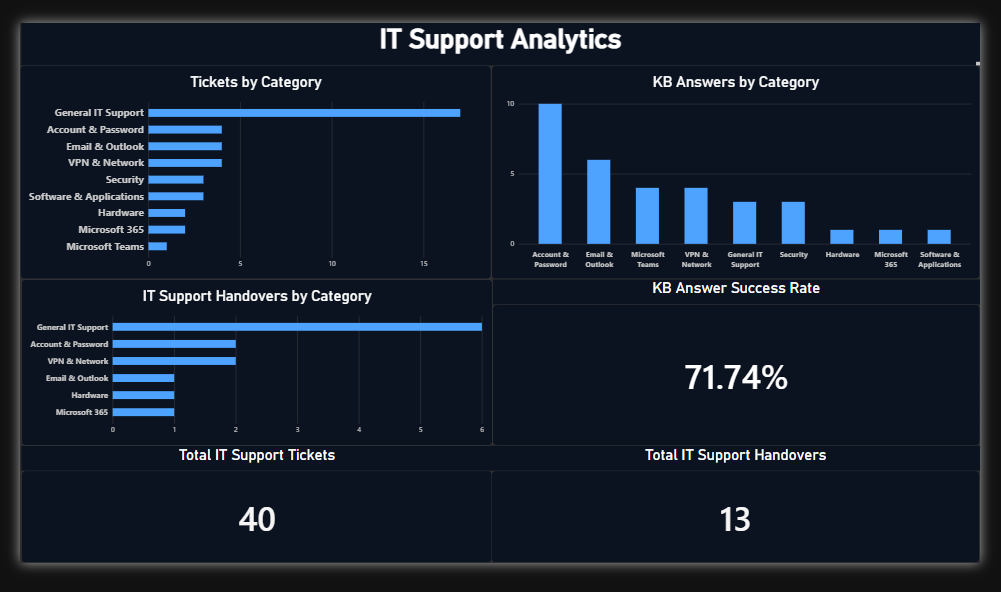

The dashboard page shown, as its layout file describes it:
{"tool":"powerbi","page":{"name":"Page 1","canvas":[1920,1080],"ordinal":0},"visuals":[{"type":"clusteredBarChart","title":"Tickets by Category","fields":{"Category":["cre75_itsupporttickets.Category"],"Y":["CountNonNull(cre75_itsupporttickets.Ticket Number)"]},"box":[0,85,942.5,427.5],"z":0},{"type":"cardVisual","title":"Total IT Support Tickets","fields":{"Data":["CountNonNull(cre75_itsupporttickets.Ticket Number)"]},"box":[2.5,845,942.5,235],"z":1},{"type":"cardVisual","title":"KB Answer Success Rate","fields":{"Data":["cre75_itconversationanalyticses.KB Answer Success Rate"]},"box":[945,512.5,975,332.5],"z":2},{"type":"clusteredBarChart","title":"IT Support Handovers by Category","fields":{"Category":["cre75_itconversationanalyticses.Category Name"],"Y":["CountNonNull(cre75_itconversationanalyticses.cre75_userquestion)"]},"box":[2.5,512.5,942.5,332.5],"z":3},{"type":"cardVisual","title":"Total IT Support Handovers","fields":{"Data":["CountNonNull(cre75_itconversationanalyticses.cre75_handedover)"]},"box":[942.5,840,977.5,240],"z":4},{"type":"clusteredColumnChart","title":"KB Answers by Category","fields":{"Category":["cre75_itconversationanalyticses.Category Name"],"Y":["CountNonNull(cre75_itconversationanalyticses.cre75_userquestion)"]},"box":[942.5,85,977.5,427.5],"z":5},{"type":"textbox","title":"IT Support Analytics","box":[678.3,0,530,85],"z":6}]}

Visuals, with their boxes on the page's 1920x1080 design canvas (x1, y1, x2, y2). These are canvas units, not pixel positions in the 1001x592 screenshot, which may show the page scaled, cropped or inside an application window:
"Tickets by Category" clusteredBarChart: BBox(0, 85, 942, 512)
"Total IT Support Tickets" cardVisual: BBox(2, 845, 945, 1080)
"KB Answer Success Rate" cardVisual: BBox(945, 512, 1920, 845)
"IT Support Handovers by Category" clusteredBarChart: BBox(2, 512, 945, 845)
"Total IT Support Handovers" cardVisual: BBox(942, 840, 1920, 1080)
"KB Answers by Category" clusteredColumnChart: BBox(942, 85, 1920, 512)
"IT Support Analytics" textbox: BBox(678, 0, 1208, 85)
